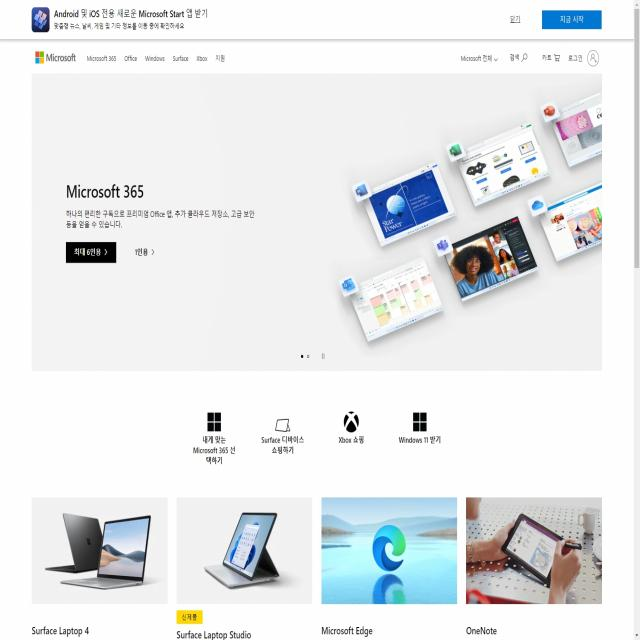menu-bar: (82, 40, 230, 72), (454, 41, 604, 72)
